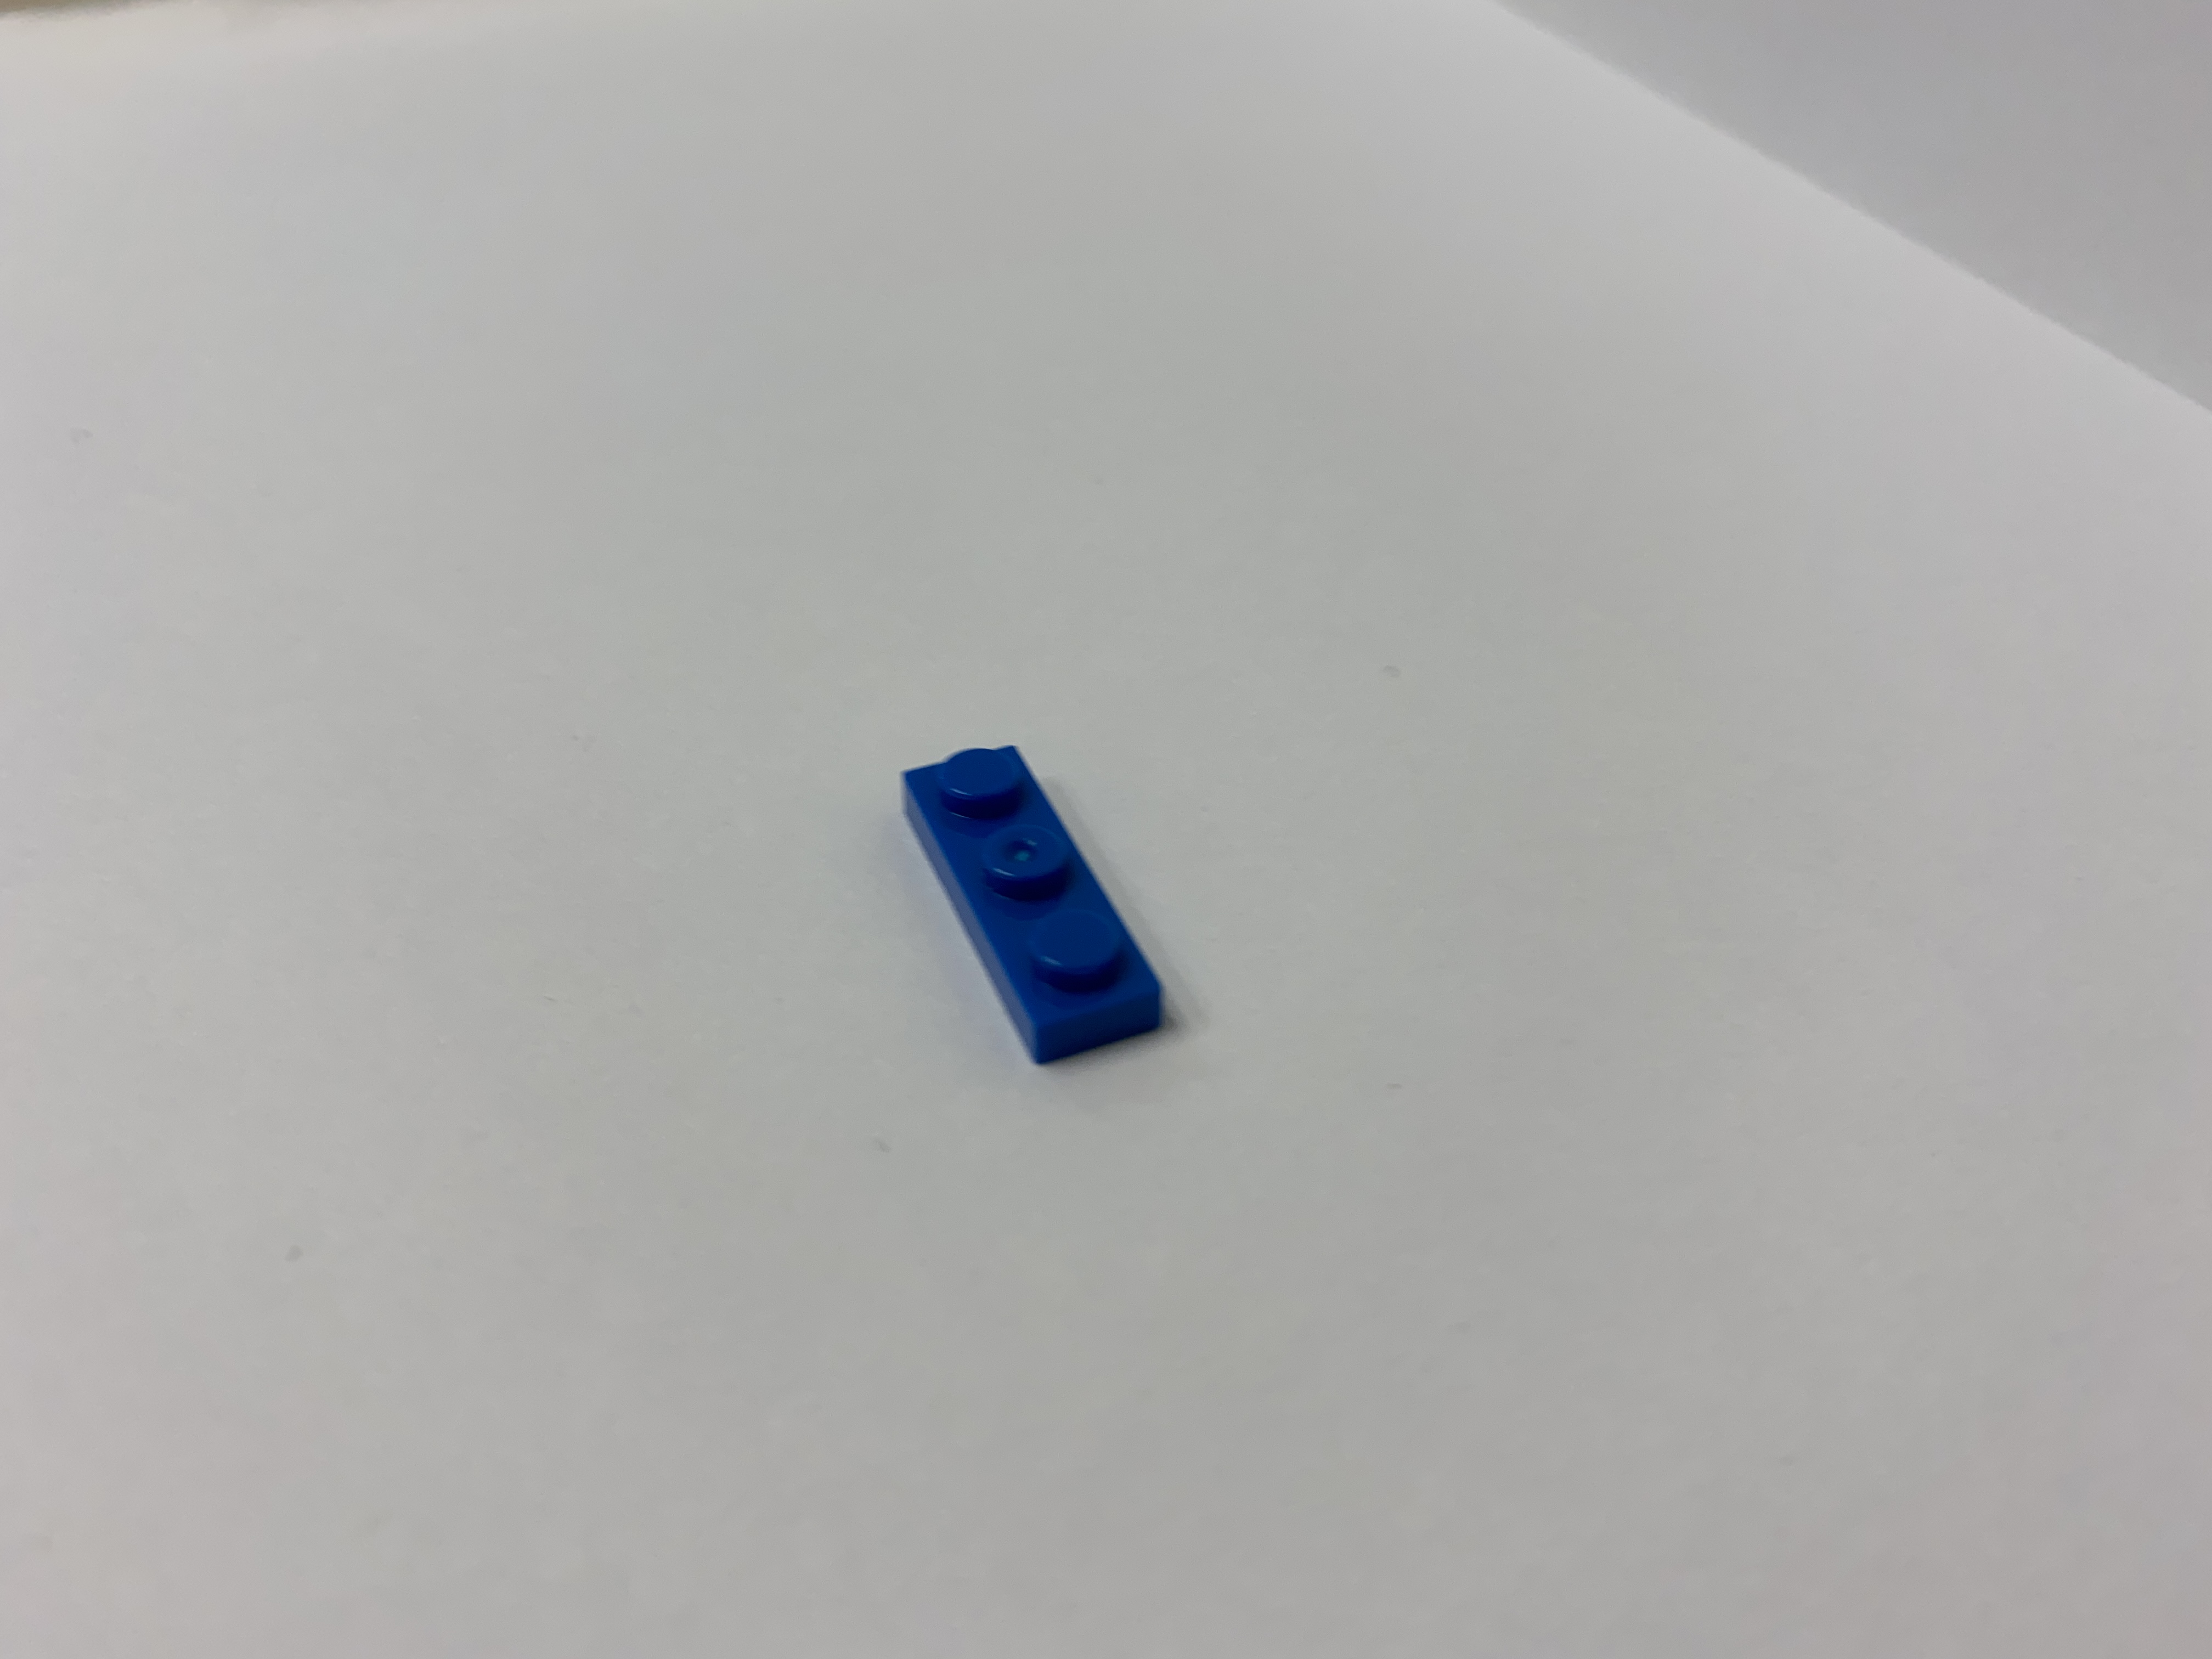car: (853, 737, 1212, 1079)
